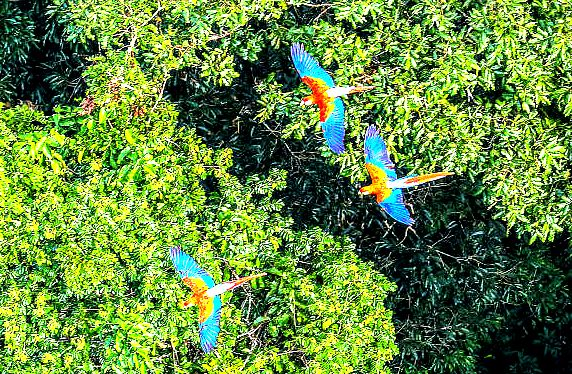Bird: (167, 241, 267, 353), (355, 123, 457, 225), (288, 40, 374, 147)
